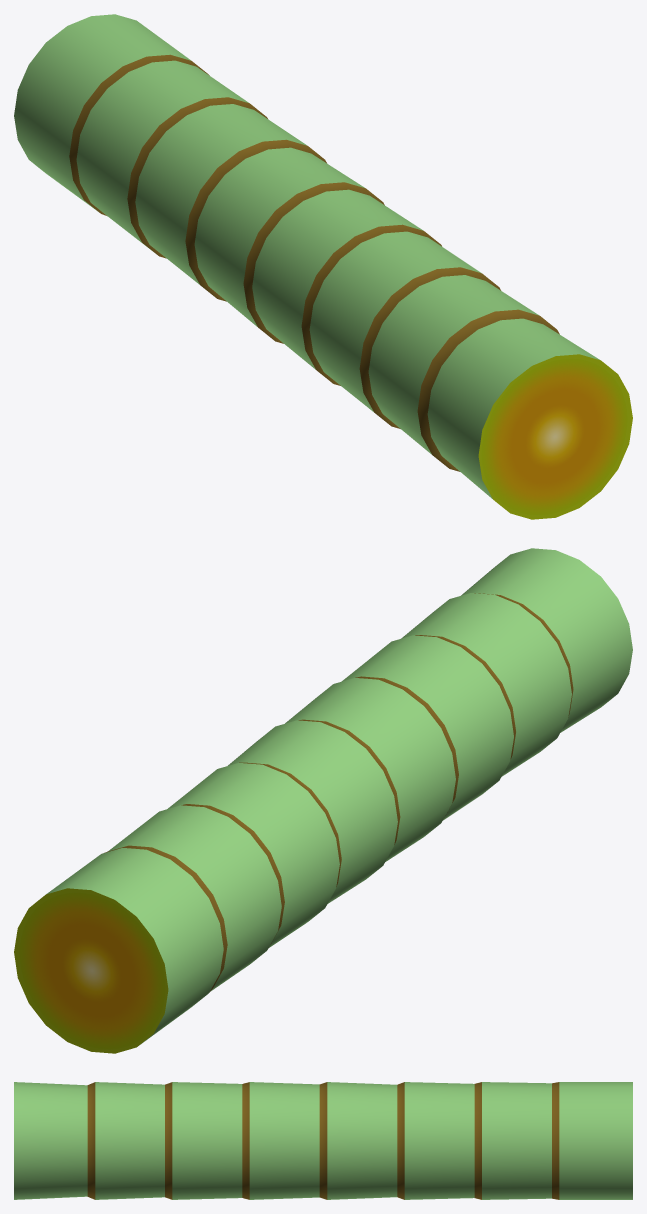
The model's file is SugarCane.fbx.
3 renders of one model, top to bottom at view 1: azimuth 30°, elevation 25°; view 2: azimuth 150°, elevation 25°; view 3: azimuth 270°, elevation 25°, orthographic. The views are drawn at different scales.
Parts seen in each view (by area): view 1: polySurface17, polySurface11, polySurface15, polySurface12, polySurface14, polySurface13, polySurface16, polySurface10; view 2: polySurface10, polySurface17, polySurface11, polySurface15, polySurface12, polySurface14, polySurface13, polySurface16; view 3: polySurface17, polySurface14, polySurface11, polySurface12, polySurface15, polySurface16, polySurface13, polySurface10.
Boxes of the visible parts, x1,y1,x2,y2 form: polySurface17: (417, 309, 632, 519); polySurface11: (69, 54, 249, 249); polySurface15: (301, 224, 481, 411); polySurface12: (127, 97, 306, 284); polySurface14: (243, 182, 423, 369); polySurface13: (185, 139, 365, 326); polySurface16: (359, 267, 539, 454); polySurface10: (14, 14, 191, 211); polySurface10: (14, 848, 223, 1053); polySurface17: (461, 548, 632, 732); polySurface11: (104, 805, 281, 992); polySurface15: (342, 635, 513, 820); polySurface12: (168, 763, 339, 947); polySurface14: (285, 678, 455, 861); polySurface13: (228, 720, 397, 903); polySurface16: (401, 593, 571, 776); polySurface17: (14, 1082, 95, 1199); polySurface14: (249, 1082, 327, 1199); polySurface11: (482, 1082, 559, 1199); polySurface12: (404, 1082, 481, 1199); polySurface15: (172, 1082, 249, 1199); polySurface16: (95, 1082, 172, 1199); polySurface13: (327, 1082, 404, 1199); polySurface10: (559, 1082, 632, 1199).
Bounding box in the file's own units: 5.12 × 5.12 × 26.67.
Materials: 3 (1 with a texture image).
